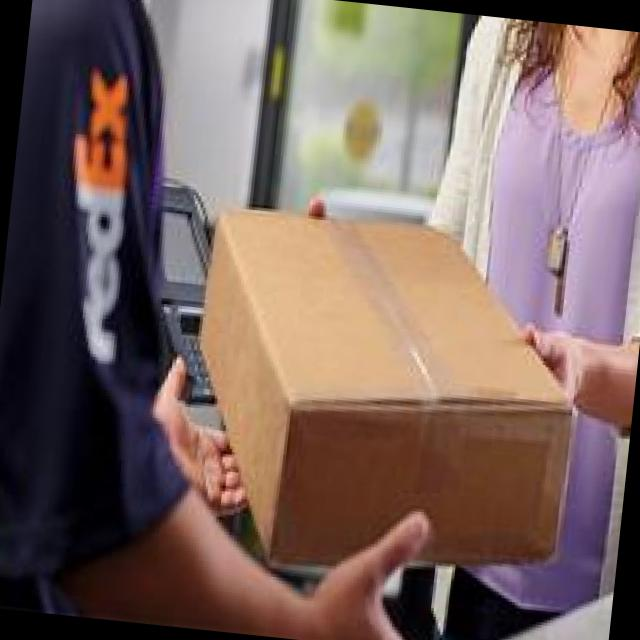box: (201, 204, 574, 569)
